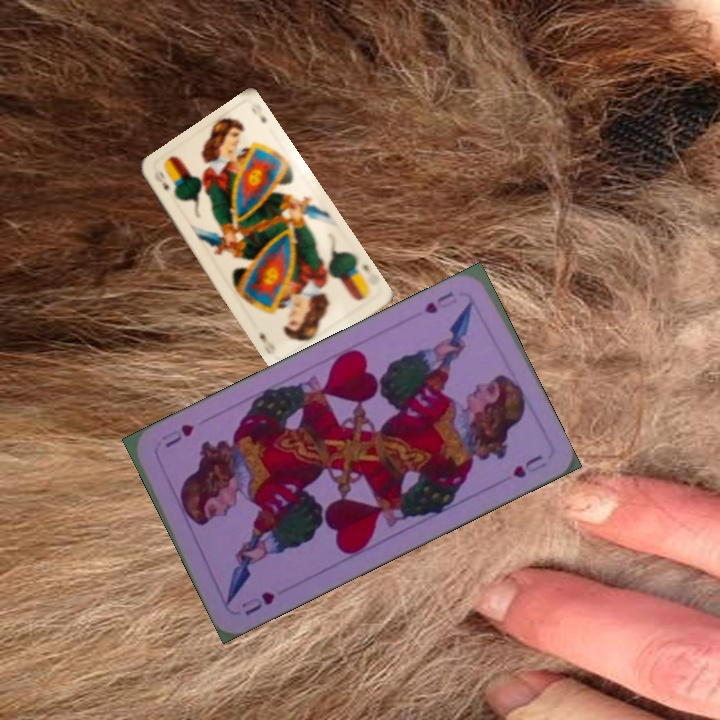EO: (350, 258, 382, 288), (150, 166, 172, 194)
HU: (420, 287, 460, 317), (241, 587, 278, 619)
